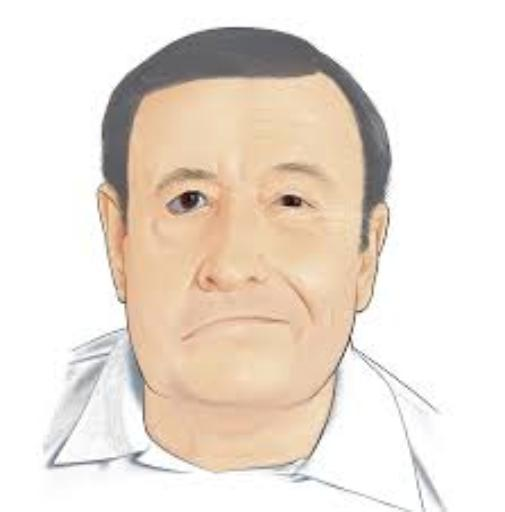left_eye: (268, 194, 322, 218)
left_lip_corner: (272, 315, 296, 332)
right_eye: (163, 188, 215, 218)
right_lip_corner: (176, 329, 201, 346)
